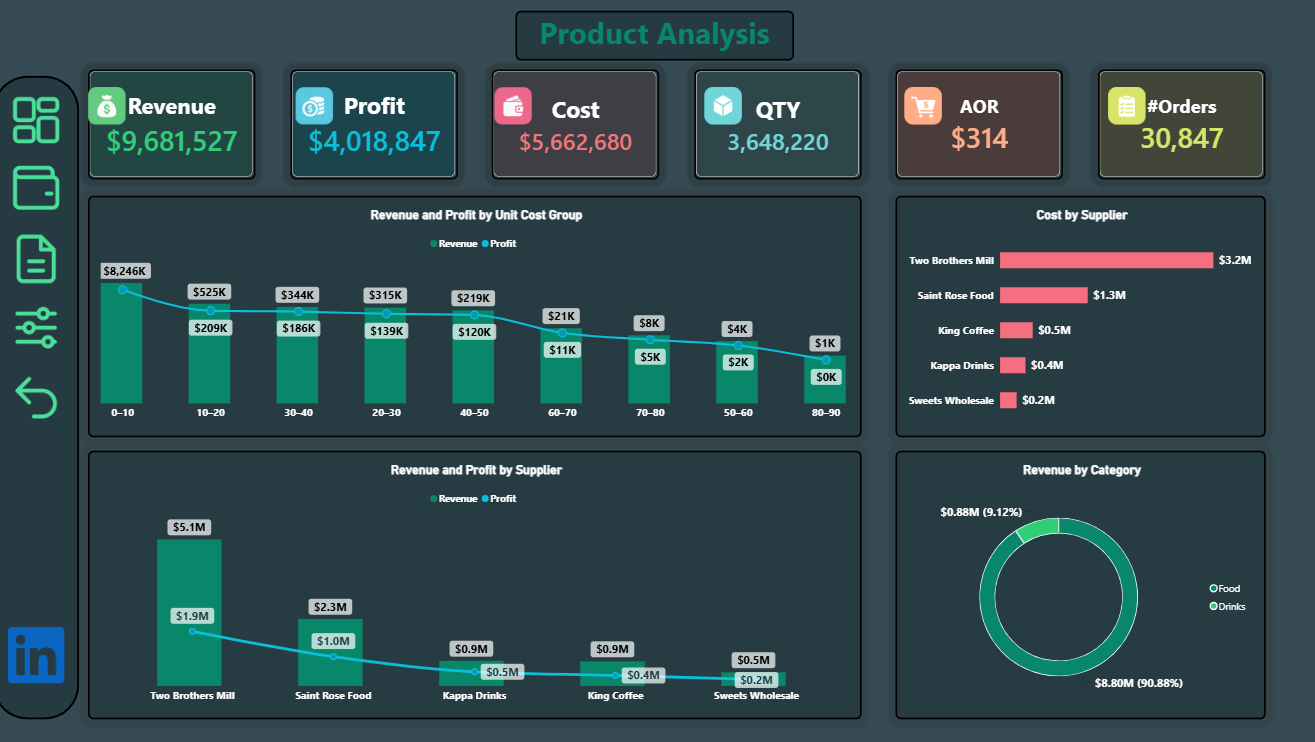

The dashboard page shown, as its layout file describes it:
{"tool":"powerbi","page":{"name":"Product Analysis","canvas":[1920,1080],"ordinal":1},"visuals":[{"type":"lineStackedColumnComboChart","fields":{"Category":["dProduct.Unit Cost Group"],"Y":["overview measures.Revenue"],"Y2":["overview measures.Profit"]},"box":[137.5,287.7,1120.2,349.3],"z":0},{"type":"clusteredBarChart","fields":{"Category":["dProduct.Supplier"],"Y":["overview measures.Cost"]},"box":[1306.6,287.7,535.7,349.3],"z":1000},{"type":"cardVisual","fields":{"Data":["overview measures.profit"]},"box":[430,105,242.5,159.3],"z":2000},{"type":"cardVisual","fields":{"Data":["overview measures.Cost"]},"box":[722.4,105,242.5,159.3],"z":3000},{"type":"cardVisual","fields":{"Data":["ProductAnalysis Measures.QTY"]},"box":[1014.9,105,242.5,159.3],"z":4000},{"type":"cardVisual","fields":{"Data":["ProductAnalysis Measures.AOR"]},"box":[1307.3,105,242.5,159.3],"z":5000},{"type":"cardVisual","fields":{"Data":["ProductAnalysis Measures.#Orders"]},"box":[1599.7,105,242.5,159.3],"z":6000},{"type":"cardVisual","fields":{"Data":["overview measures.Revenue"]},"box":[137.5,105,242.5,159.3],"z":7000},{"type":"lineStackedColumnComboChart","fields":{"Category":["dProduct.Supplier"],"Y":["overview measures.Revenue"],"Y2":["overview measures.Profit"]},"box":[137.5,656.9,1120.2,389.1],"z":8000},{"type":"donutChart","fields":{"Category":["dProduct.Category"],"Y":["overview measures.Revenue"]},"box":[1306.6,656.9,535.7,389.1],"z":9000},{"type":"image","box":[110.4,130.3,108.6,54.3],"z":10000},{"type":"image","box":[410.8,130.3,108.6,54.3],"z":11000},{"type":"image","box":[698.5,130.3,108.6,54.3],"z":12000},{"type":"image","box":[1002.6,130.3,108.6,54.3],"z":13000},{"type":"image","box":[1292.1,130.3,108.6,54.3],"z":14000},{"type":"image","box":[1587.1,130.3,108.6,54.3],"z":15000},{"type":"shape","box":[0,114,124.9,932],"z":16000},{"type":"image","box":[21.7,912.1,81.4,81.4],"z":17000},{"type":"image","box":[21.7,137.5,81.4,81.4],"z":18000},{"type":"image","box":[21.7,539.3,81.4,81.4],"z":19000},{"type":"image","box":[21.7,238,81.4,81.4],"z":20000},{"type":"image","box":[21.7,338.4,81.4,81.4],"z":21000},{"type":"image","box":[21.7,438.8,81.4,81.4],"z":22000},{"type":"textbox","box":[756.4,19.9,403.6,72.4],"z":22001}]}

Visuals, with their boxes in screenshot pixels (x1, y1, x2, y2), scaled from the page's 1920x1080 canvas onto the 1315x742 screenshot:
lineStackedColumnComboChart - dProduct.Unit Cost Group x overview measures.Revenue: l=94, t=198, r=861, b=438
clusteredBarChart - dProduct.Supplier x overview measures.Cost: l=895, t=198, r=1262, b=438
cardVisual - overview measures.profit: l=295, t=72, r=461, b=182
cardVisual - overview measures.Cost: l=495, t=72, r=661, b=182
cardVisual - ProductAnalysis Measures.QTY: l=695, t=72, r=861, b=182
cardVisual - ProductAnalysis Measures.AOR: l=895, t=72, r=1061, b=182
cardVisual - ProductAnalysis Measures.#Orders: l=1096, t=72, r=1262, b=182
cardVisual - overview measures.Revenue: l=94, t=72, r=260, b=182
lineStackedColumnComboChart - dProduct.Supplier x overview measures.Revenue: l=94, t=451, r=861, b=719
donutChart - dProduct.Category x overview measures.Revenue: l=895, t=451, r=1262, b=719
image: l=76, t=90, r=150, b=127
image: l=281, t=90, r=356, b=127
image: l=478, t=90, r=553, b=127
image: l=687, t=90, r=761, b=127
image: l=885, t=90, r=959, b=127
image: l=1087, t=90, r=1161, b=127
shape: l=0, t=78, r=86, b=719
image: l=15, t=627, r=71, b=683
image: l=15, t=94, r=71, b=150
image: l=15, t=371, r=71, b=426
image: l=15, t=164, r=71, b=219
image: l=15, t=232, r=71, b=288
image: l=15, t=301, r=71, b=357
textbox: l=518, t=14, r=794, b=63
